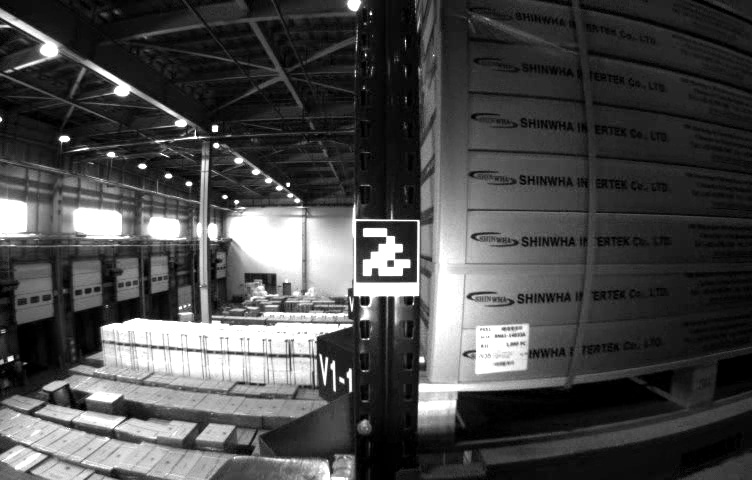True Barcode: (474, 323, 530, 371)
